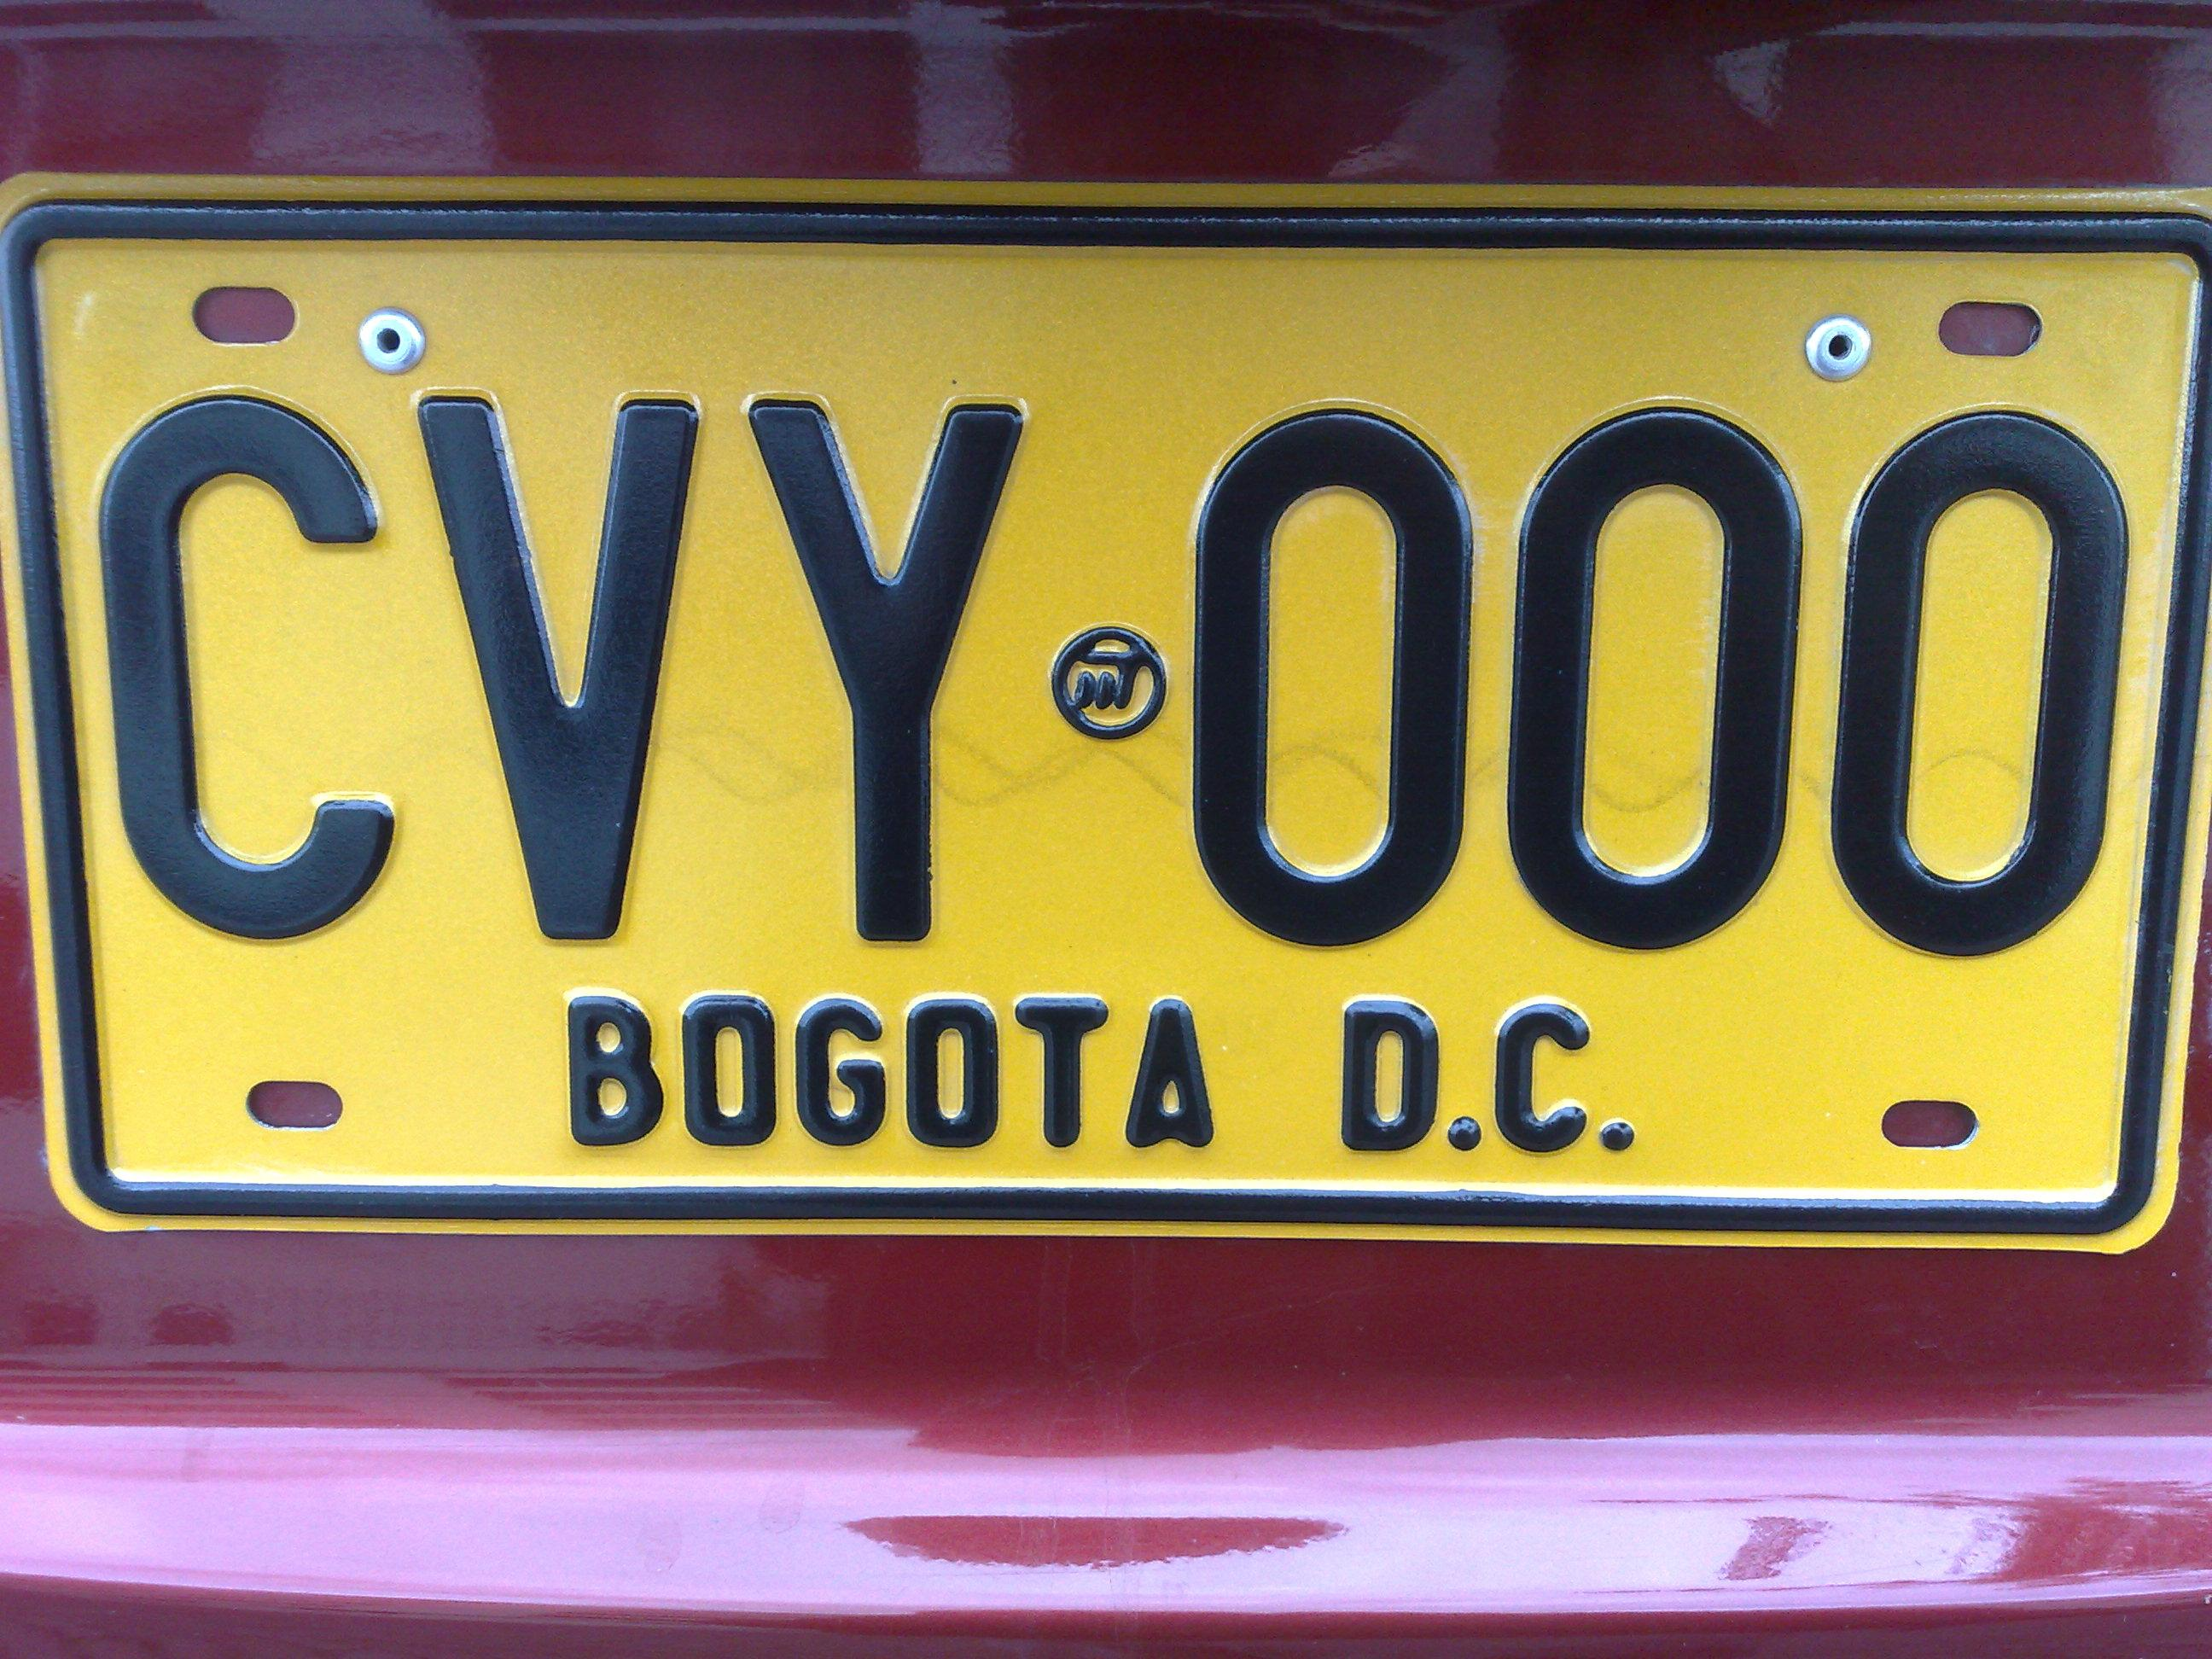placas: (6, 157, 2198, 1263)
